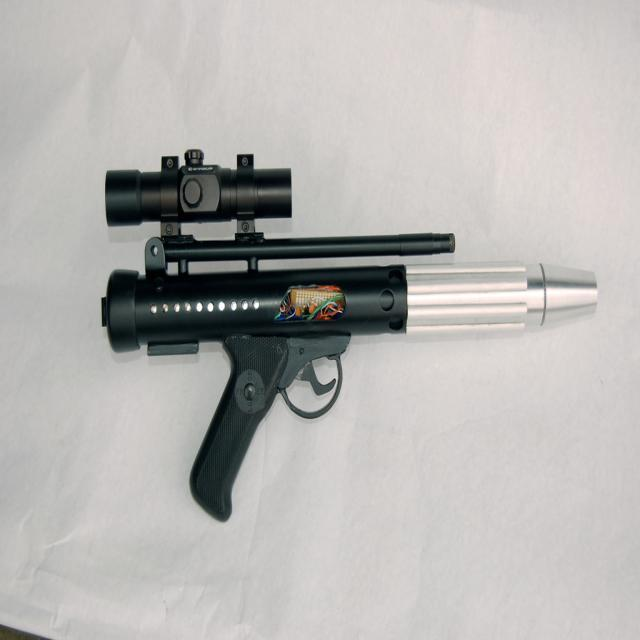Gun: (102, 151, 598, 521)
